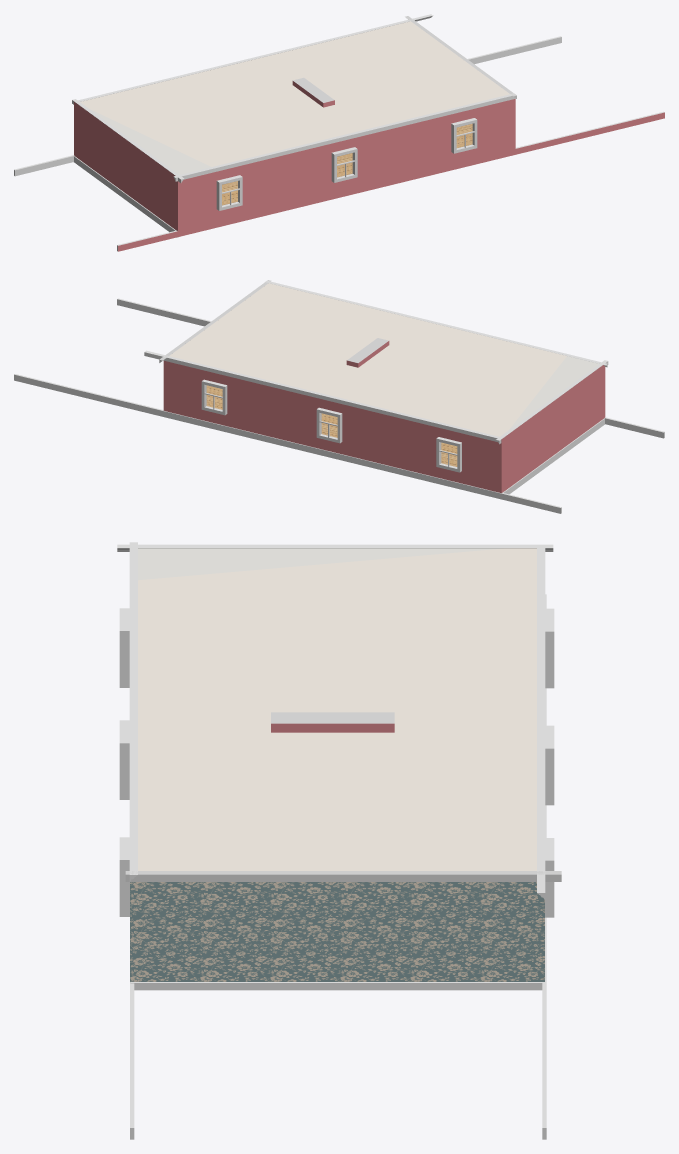
File: new_artroom3.glb
3 views of the same model, one above another, from view 1: azimuth 30°, elevation 25°; view 2: azimuth 150°, elevation 25°; view 3: azimuth 270°, elevation 25° (orthographic). The views are drawn at different scales.
Visible parts, largest first — view 1: Cube; view 2: Cube; view 3: Cube.
Boxes of the visible parts, <box> form: Cube: <box>14,14,664,251</box>; Cube: <box>14,280,664,513</box>; Cube: <box>117,542,561,1139</box>.
Bounding box in the file's own units: 51.15 × 5.77 × 17.99.
15 materials, 3 textured.
